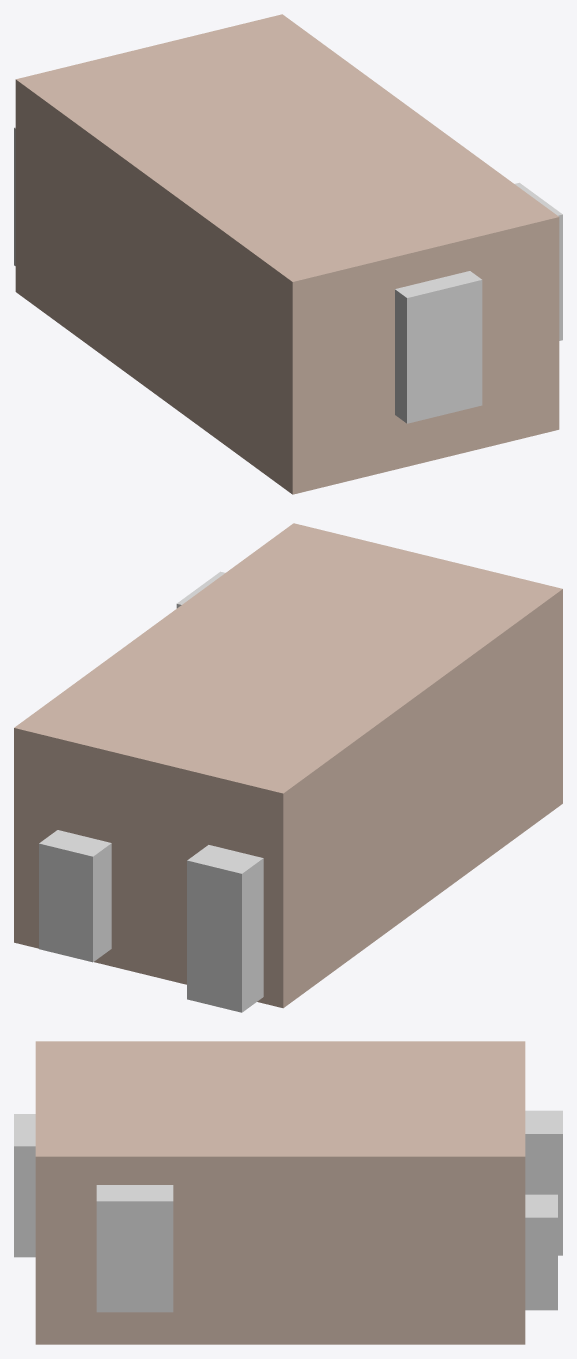
Rendered from MainRoom.fbx.
3 views of the same model, one above another, from view 1: azimuth 30°, elevation 25°; view 2: azimuth 150°, elevation 25°; view 3: azimuth 270°, elevation 25° (orthographic). The views are drawn at different scales.
Visible parts, largest first — view 1: RoomShape, WindowEmpty, WindowEmpty.004; view 2: RoomShape, DoorEmpty, SecretDoor; view 3: RoomShape, WindowEmpty.004, SecretDoor, DoorEmpty, WindowEmpty.
Boxes of the visible parts, left/top/right/bottom form: RoomShape: left=15, top=14, right=559, bottom=494; WindowEmpty: left=395, top=271, right=482, bottom=423; WindowEmpty.004: left=515, top=182, right=562, bottom=340; RoomShape: left=14, top=523, right=562, bottom=1008; DoorEmpty: left=187, top=845, right=263, bottom=1012; SecretDoor: left=39, top=830, right=111, bottom=962; RoomShape: left=35, top=1041, right=525, bottom=1344; WindowEmpty.004: left=96, top=1185, right=173, bottom=1312; SecretDoor: left=525, top=1194, right=557, bottom=1310; DoorEmpty: left=525, top=1110, right=562, bottom=1255; WindowEmpty: left=14, top=1114, right=35, bottom=1257.
Bounding box in the file's own units: 352 × 238 × 621.
